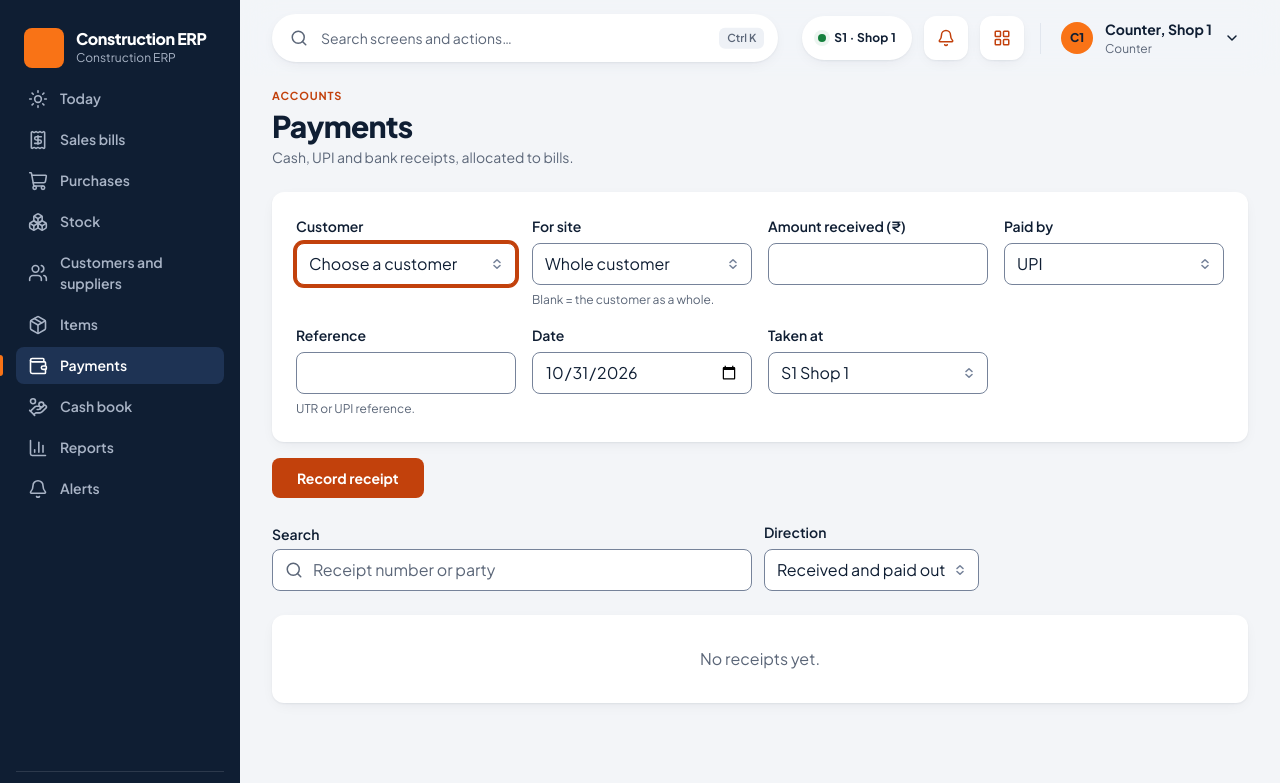
Test: Payments › records a receipt aimed at a chosen bill, with an idempotency key
Click the button "Record receipt" at {"x": 348, "y": 478}, box top-left (272, 458), bottom-right (424, 498)
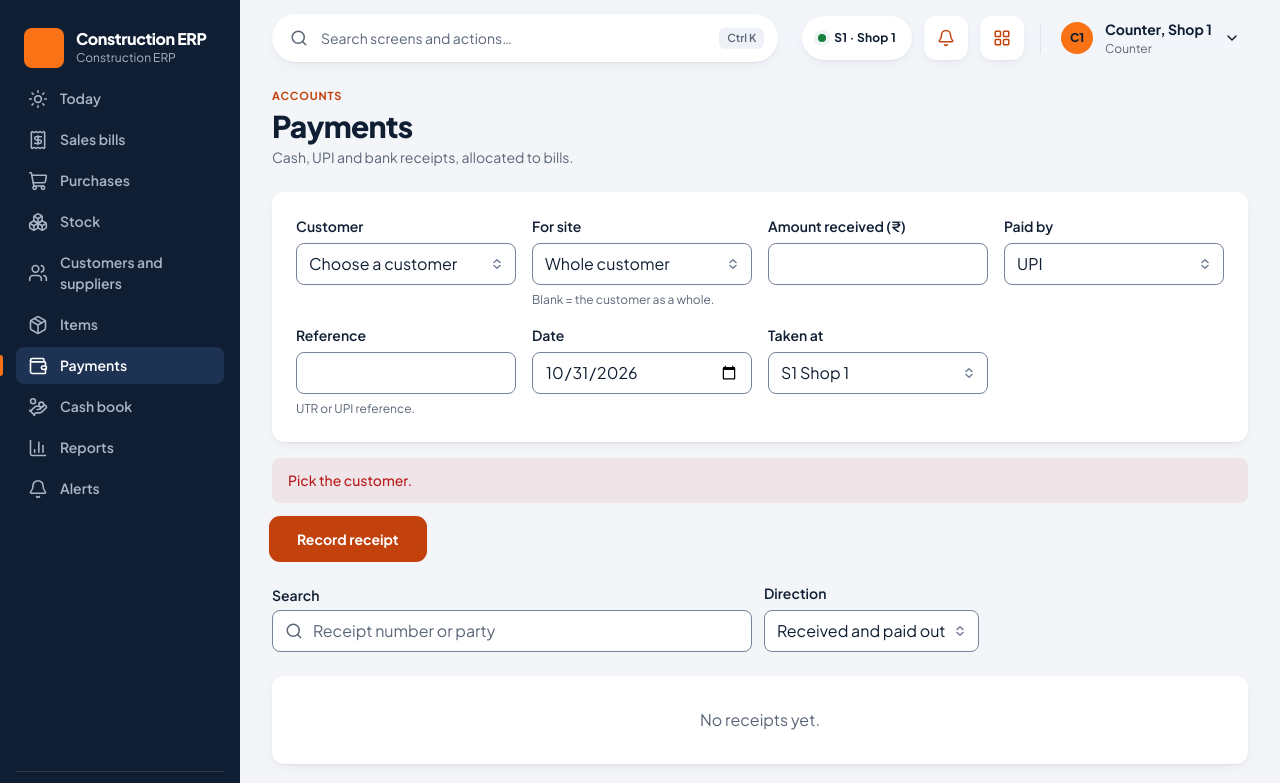
Expected: the text "Pick the customer." is shown, top-left (272, 458), bottom-right (1248, 503)
Select "Ravi Builders" in the dropdown labelled "Customer" at {"x": 406, "y": 264}, box top-left (296, 243), bottom-right (516, 285)
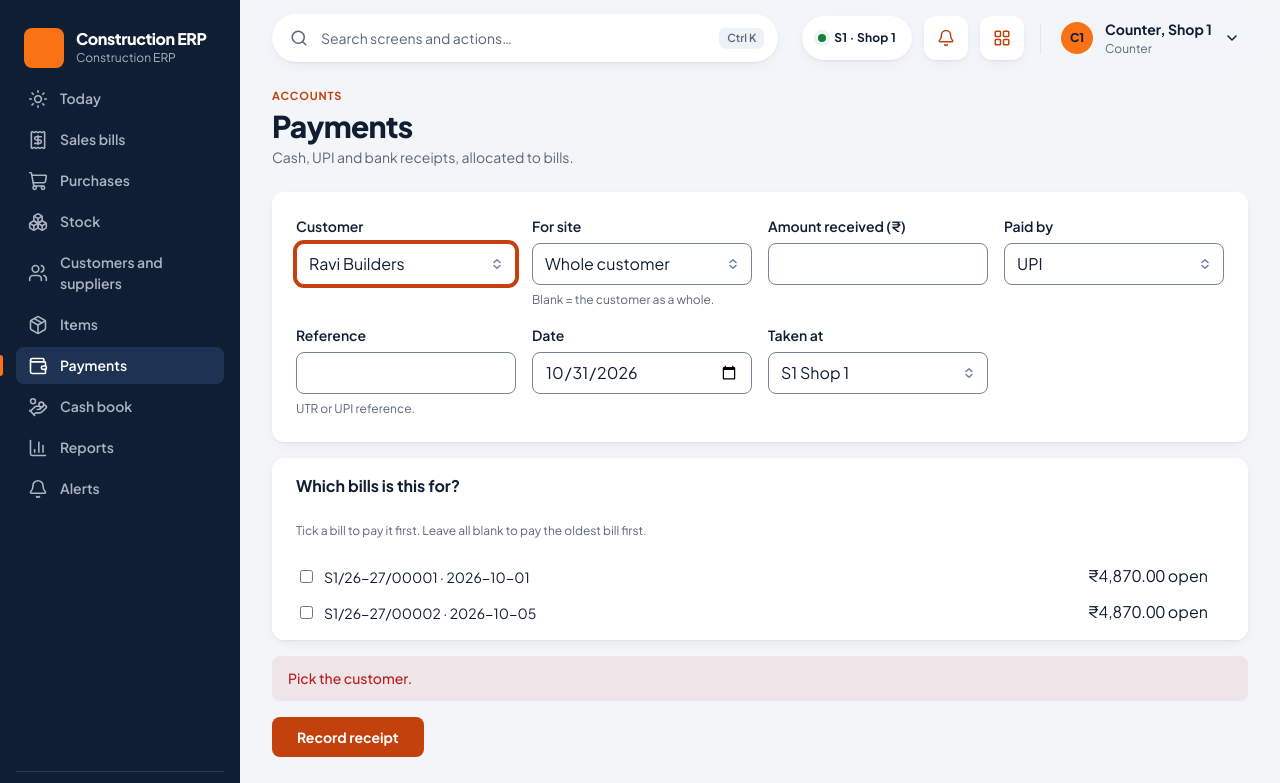
Type "4870" into the field labelled "Amount received (₹)" at {"x": 878, "y": 264}, box top-left (768, 243), bottom-right (988, 285)
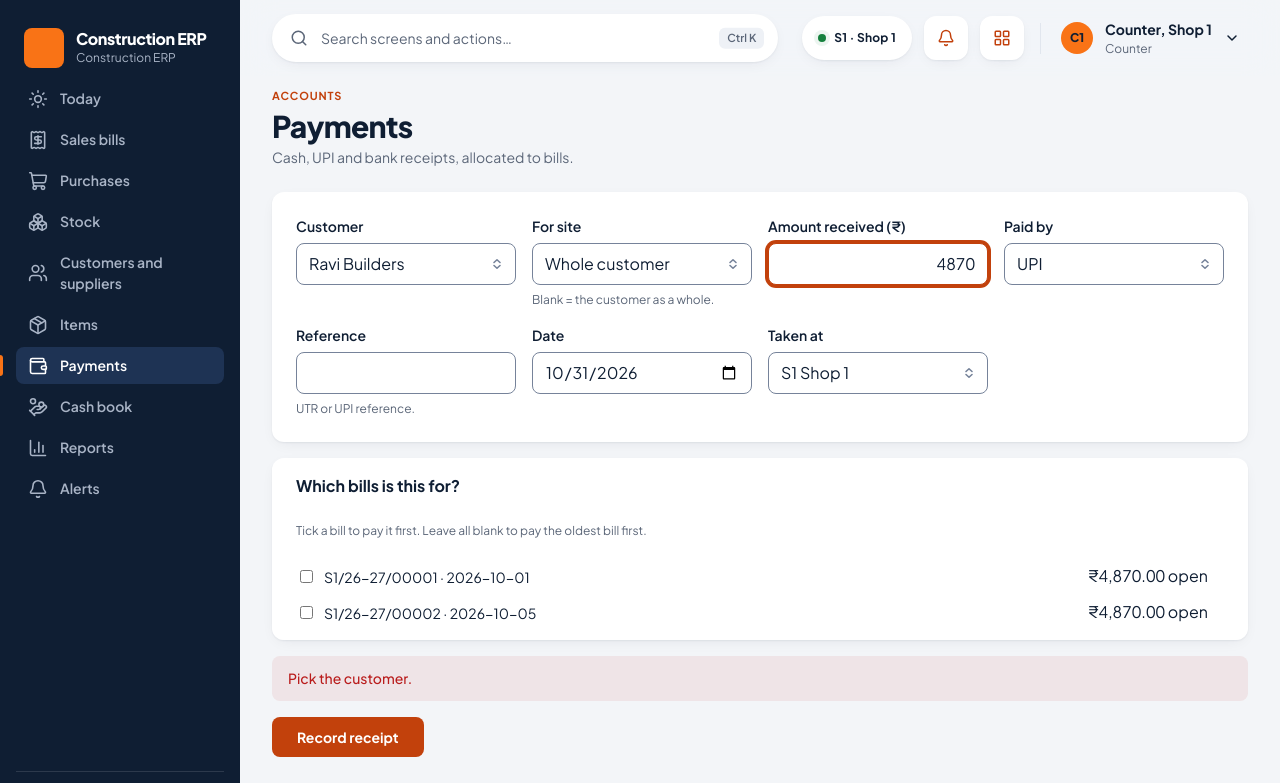
Click the checkbox labelled "S1/26-27/00002 · 2026-10-05" at {"x": 306, "y": 612}, box top-left (300, 606), bottom-right (313, 619)
(page scrolled)
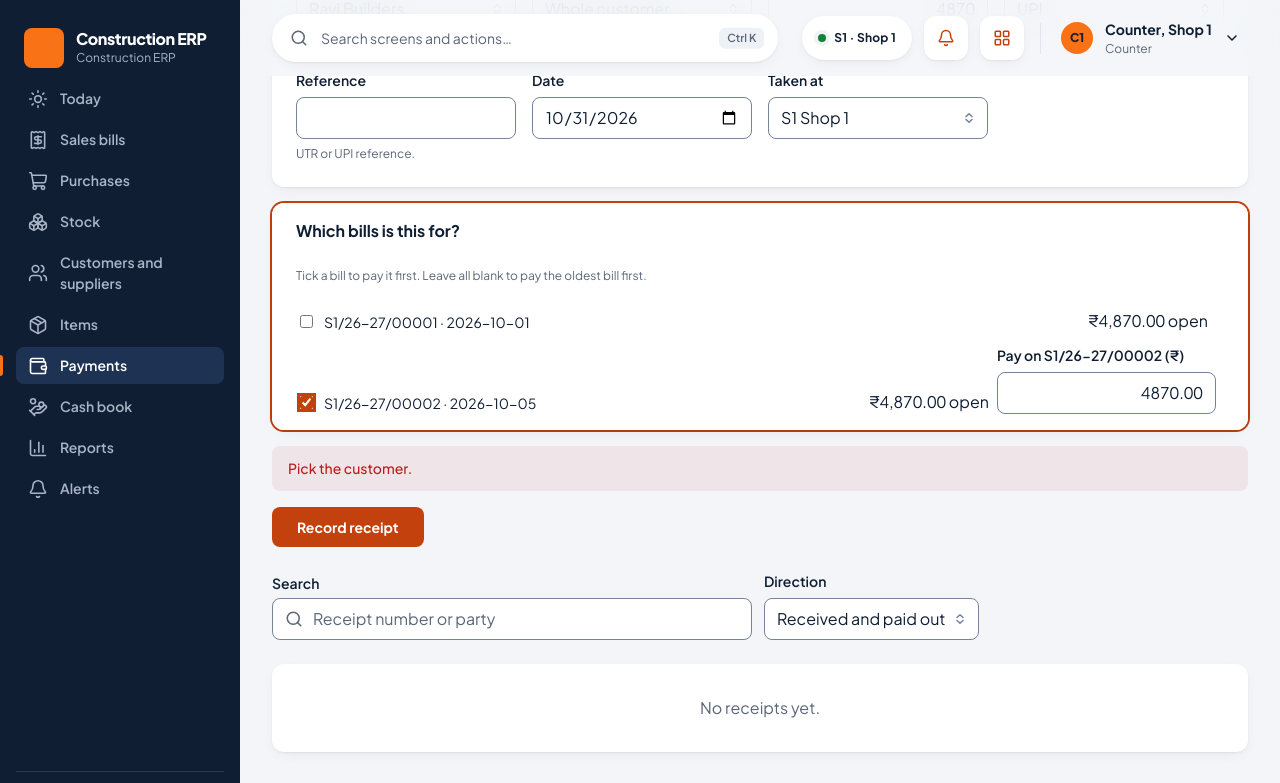
Expected: the field labelled "Pay on S1/26-27/00002 (₹)" holds "4870.00", top-left (997, 372), bottom-right (1216, 414)
Click the button "Record receipt" at {"x": 348, "y": 527}, box top-left (272, 507), bottom-right (424, 547)
(page scrolled)
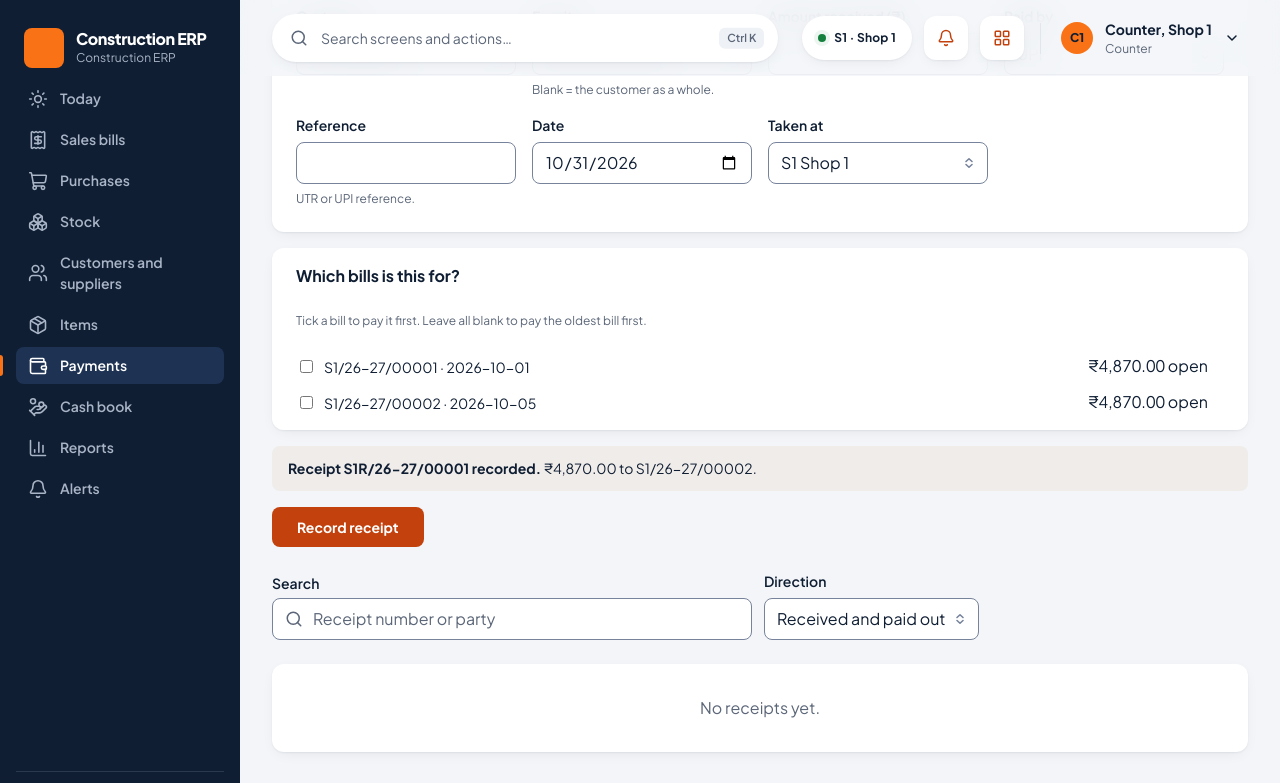
Expected: the text "Receipt S1R/26-27/00001 recorded." is shown, top-left (288, 459), bottom-right (541, 477)
Expected: the text "Receipt S1R/26-27/00001 recorded. ₹4,870.00 to S1/26-27/00002." is shown, top-left (272, 446), bottom-right (1248, 491)
